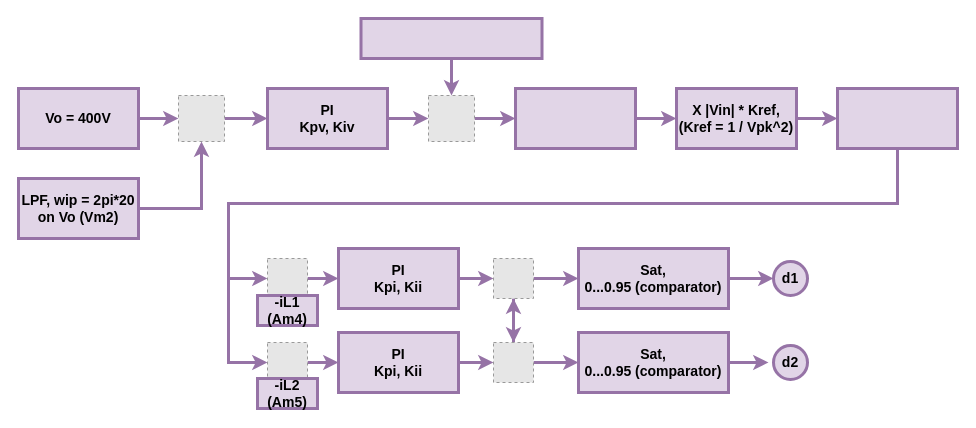
Image size: 976x428. Some labels were removed from this diagram. Grey dashed boxes stand in for pictures. Here are the shapes that lost their labels. From the top down, the box of each, then its label:
(359, 16, 543, 60): Pout = 4kW (feed-forward)
(514, 86, 636, 150): Sat, 0...Pmax
(836, 86, 958, 150): iL* (per phase)
